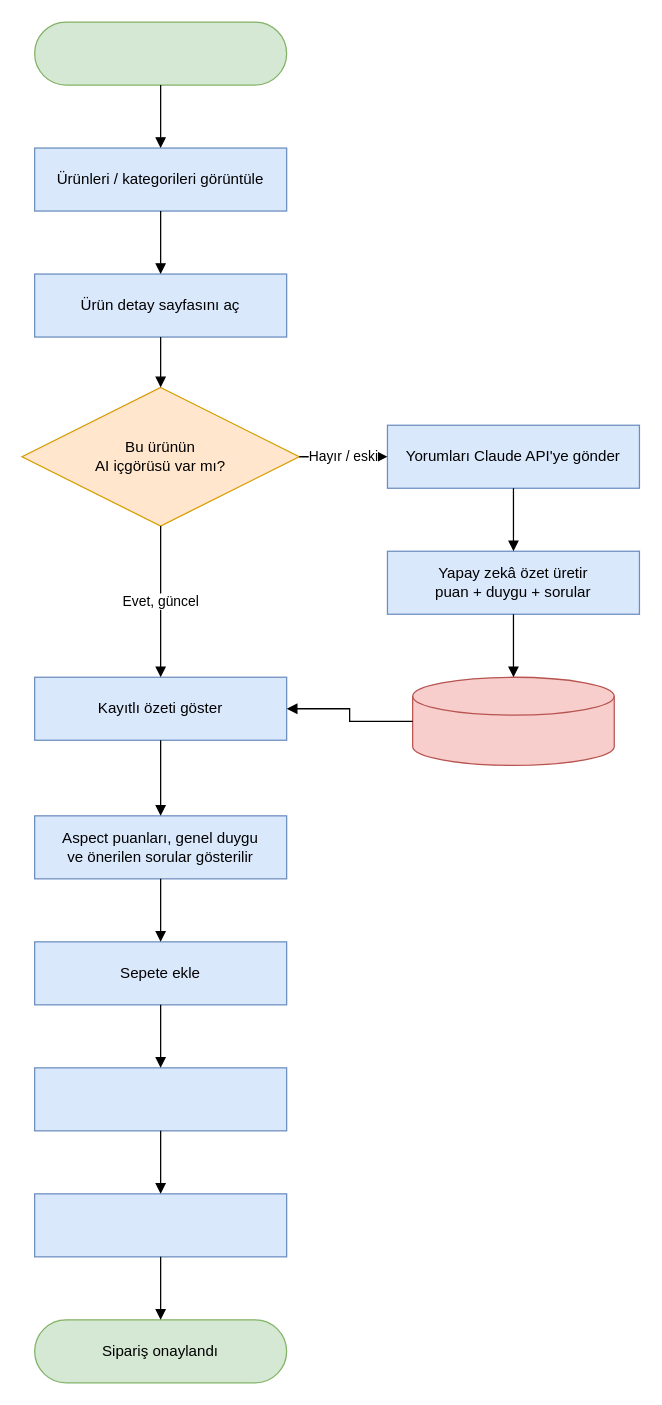
Some shapes in this 662 by 1405 pixel diagram are drawn without their labels. Here are the shapes that lost their labels. From the top down, the box of each, then its label:
(33, 21, 287, 85): Kullanıcı siteye girer
(411, 676, 614, 765): Veritabanına kaydet
(33, 1067, 287, 1131): Sepet
(33, 1193, 287, 1257): Ödeme
